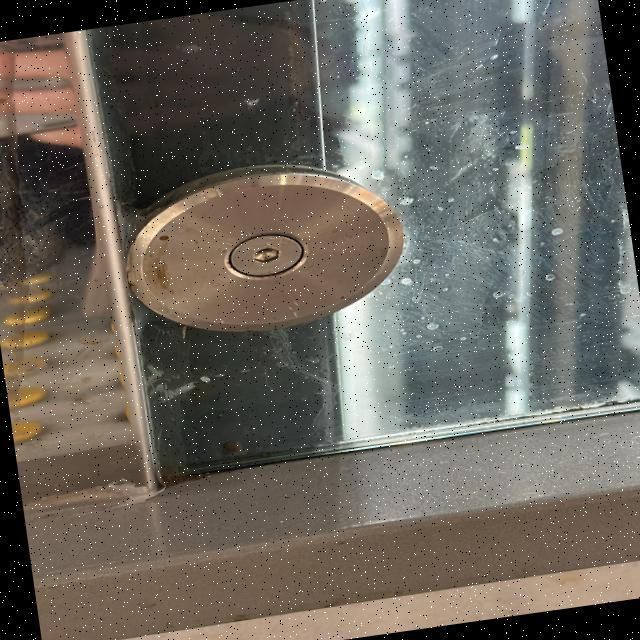Hex Socket Allen: (224, 228, 317, 288)
